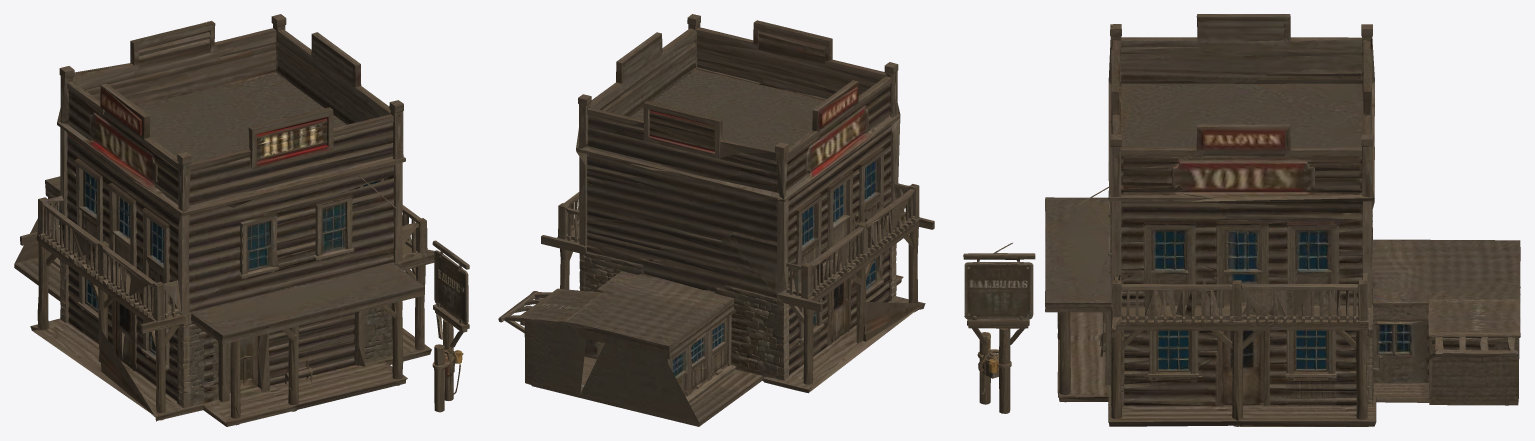
Rendered from tavern.glb.
3 renders of one model, left to right at view 1: azimuth 30°, elevation 25°; view 2: azimuth 150°, elevation 25°; view 3: azimuth 270°, elevation 25°, orthographic. The views are drawn at different scales.
Bounding box in the file's own units: 1.27 × 1.08 × 1.9.
Materials: 1 (1 with a texture image).
